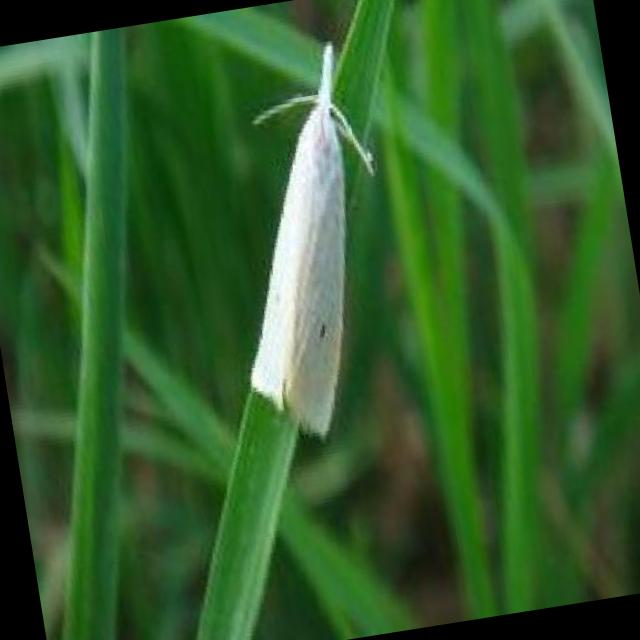stem-borer: (246, 30, 376, 446)
